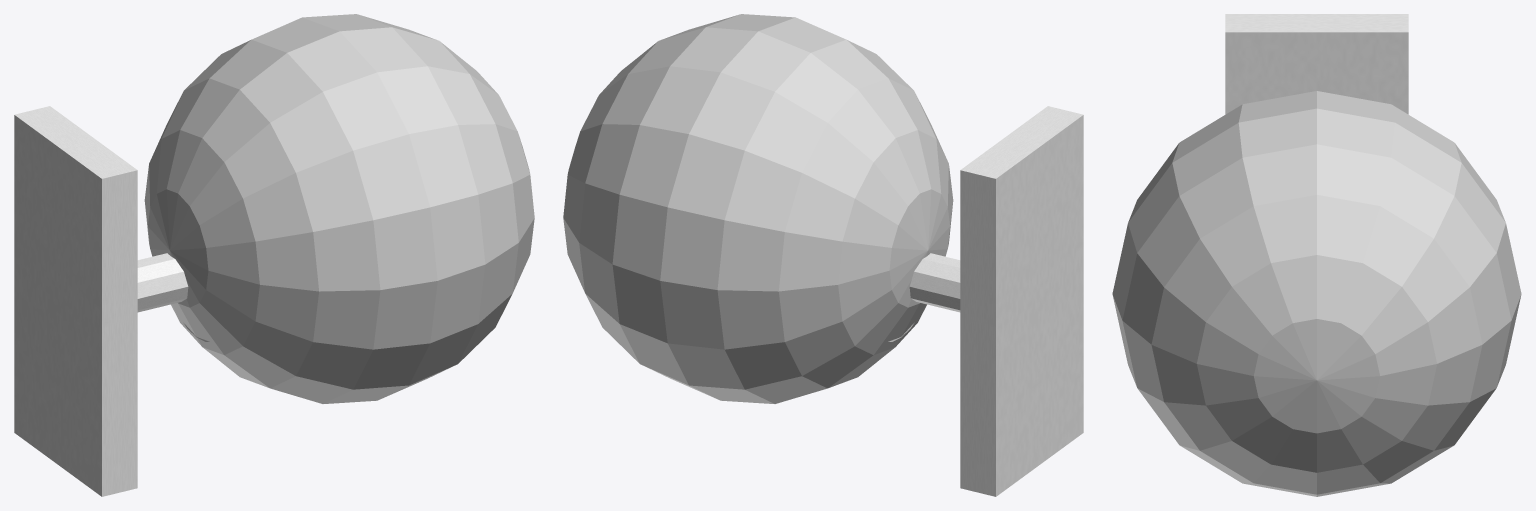
Rendered from globewallsconce.obj.
3 renders of one model, left to right at view 1: azimuth 30°, elevation 25°; view 2: azimuth 150°, elevation 25°; view 3: azimuth 270°, elevation 25°, orthographic. The views are drawn at different scales.
Parts seen in each view (by area): view 1: Glass, Base, Metal; view 2: Glass, Base, Metal; view 3: Glass, Base.
Part boxes in pixels (x1=…): Glass: x1=144, y1=14, x2=534, y2=403; Base: x1=14, y1=106, x2=137, y2=496; Metal: x1=137, y1=253, x2=209, y2=341; Glass: x1=563, y1=14, x2=953, y2=403; Base: x1=960, y1=106, x2=1083, y2=496; Metal: x1=888, y1=253, x2=960, y2=341; Glass: x1=1112, y1=91, x2=1521, y2=496; Base: x1=1225, y1=14, x2=1408, y2=114.
Size of the model in its own units: 0.505 by 0.39 by 0.38.
